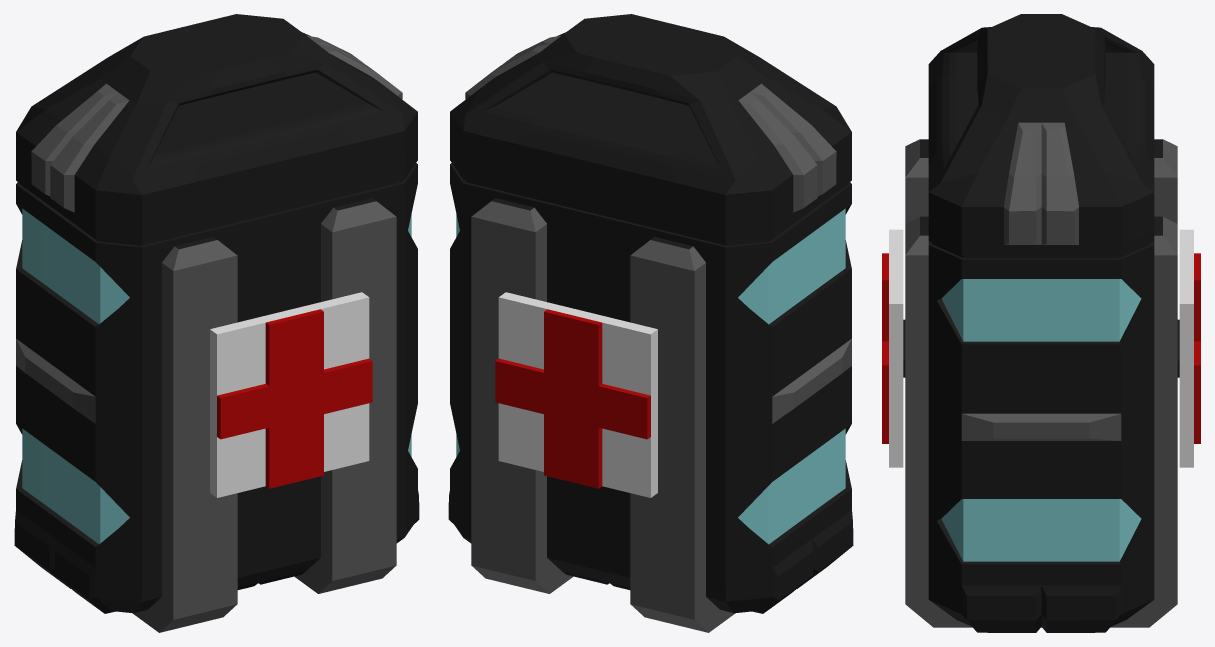
The model's file is Medkit2.fbx.
3 renders of one model, left to right at view 1: azimuth 30°, elevation 25°; view 2: azimuth 150°, elevation 25°; view 3: azimuth 270°, elevation 25°, orthographic.
Parts seen in each view (by area): view 1: Medkit.001; view 2: Medkit.001; view 3: Medkit.001.
Part boxes in pixels (x1,y1,x2,y2): Medkit.001: (14,14,419,632); Medkit.001: (448,14,853,632); Medkit.001: (882,14,1200,632).
Bounding box in the file's own units: 154 × 227 × 126.
